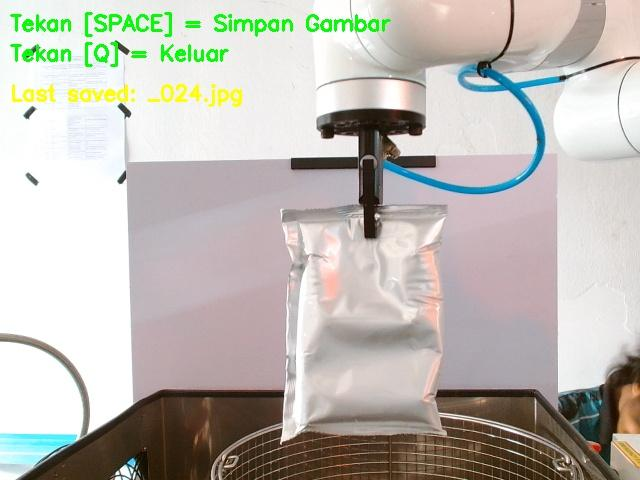retort-pouch: (276, 202, 450, 441)
